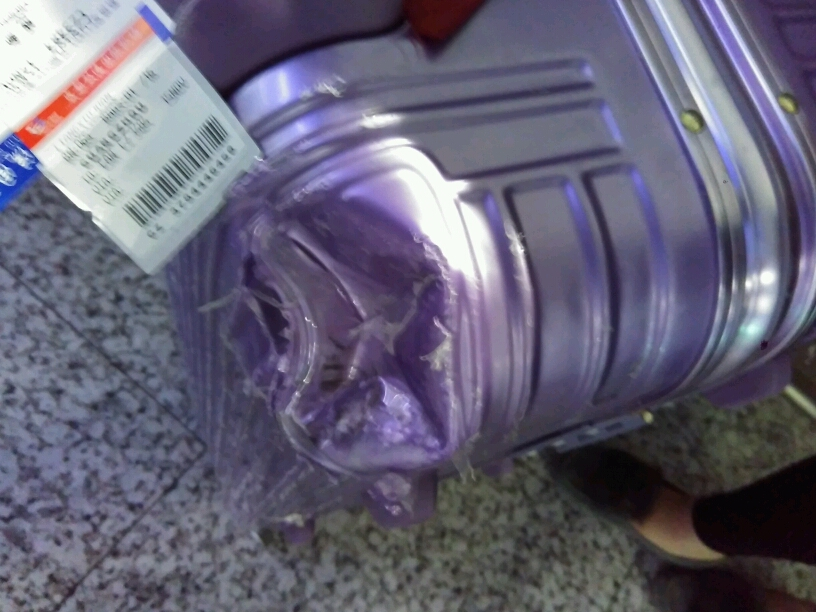rupture: (247, 192, 459, 473)
